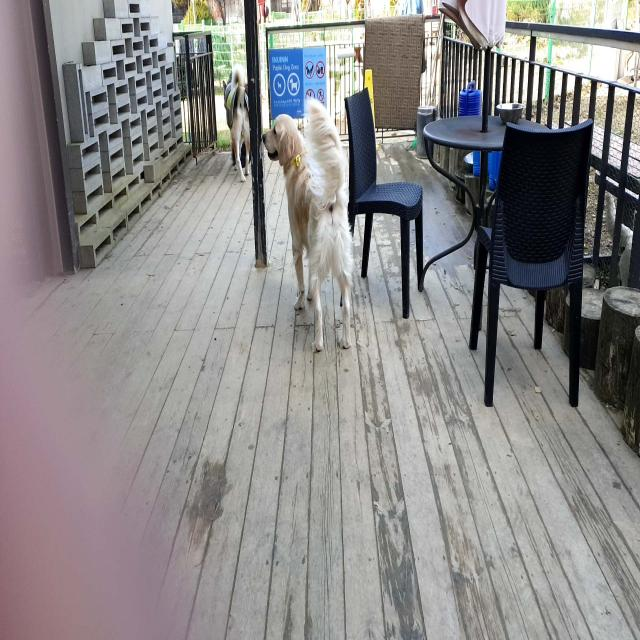Dog: (262, 100, 355, 352), (223, 65, 251, 182)
